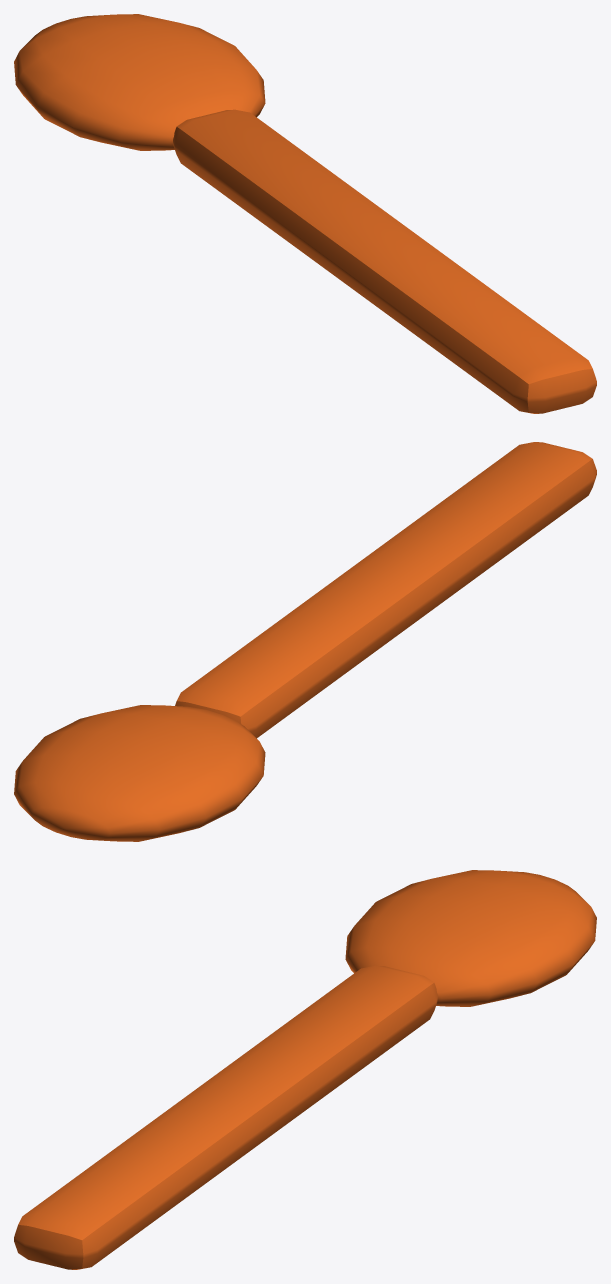
The model's file is colher_pau.glb.
3 renders of one model, top to bottom at view 1: azimuth 30°, elevation 25°; view 2: azimuth 150°, elevation 25°; view 3: azimuth 330°, elevation 25°, orthographic.
Parts seen in each view (by area): view 1: colher_pau; view 2: colher_pau; view 3: colher_pau.
Boxes of the visible parts, x1,y1,x2,y2 form: colher_pau: [14, 14, 596, 413]; colher_pau: [14, 442, 596, 841]; colher_pau: [14, 870, 596, 1269].
Size of the model in its own units: 0.056 by 0.018 by 0.235.
Materials: 1 (1 with a texture image).
